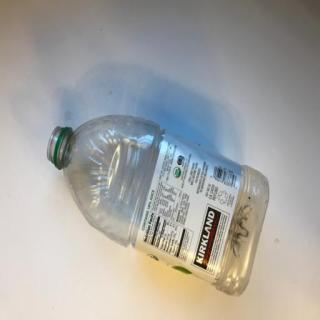Plastic-bottle: (46, 113, 272, 299)
